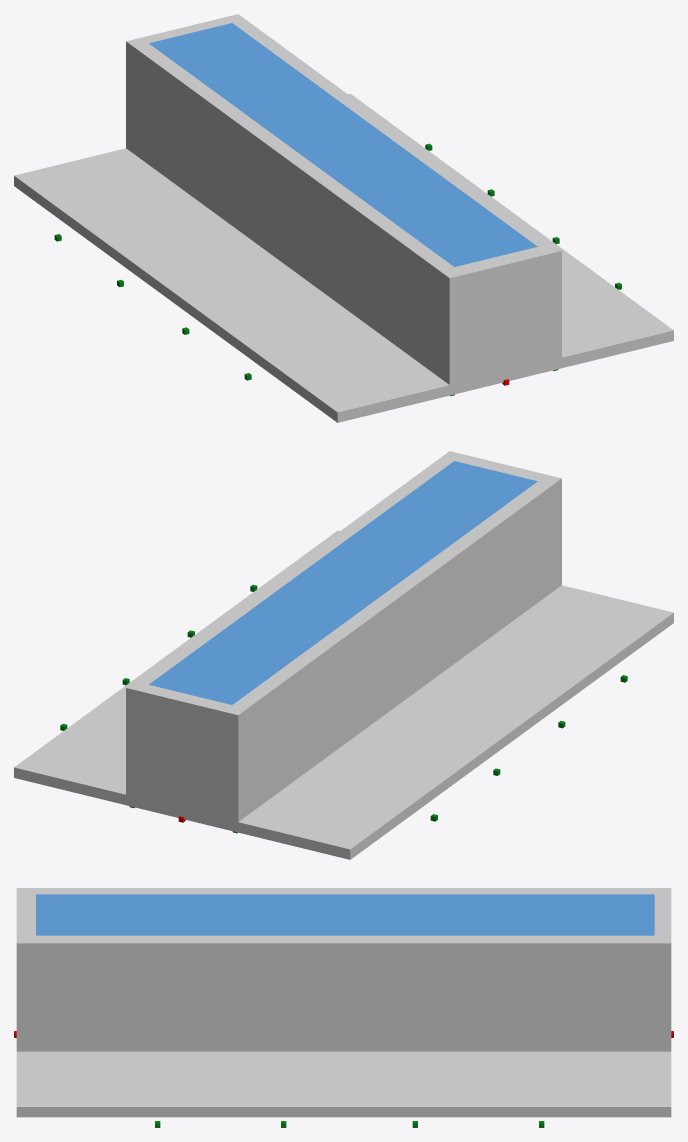
3 renders of one model, top to bottom at view 1: azimuth 30°, elevation 25°; view 2: azimuth 150°, elevation 25°; view 3: azimuth 270°, elevation 25°, orthographic.
Parts seen in each view (by area): view 1: cube, clearFloor, col2; view 2: cube, clearFloor, col2; view 3: cube, clearFloor, col2.
Part boxes in pixels (x1=…): cube: x1=126, y1=14, x2=561, y2=395; clearFloor: x1=14, y1=93, x2=673, y2=422; col2: x1=143, y1=20, x2=543, y2=269; cube: x1=126, y1=451, x2=561, y2=832; clearFloor: x1=14, y1=530, x2=673, y2=859; col2: x1=142, y1=458, x2=543, y2=707; cube: x1=16, y1=888, x2=671, y2=1051; clearFloor: x1=16, y1=1051, x2=671, y2=1117; col2: x1=31, y1=892, x2=659, y2=937.
Bounding box in the file's own units: 16.72 × 5.13 × 25.2.
